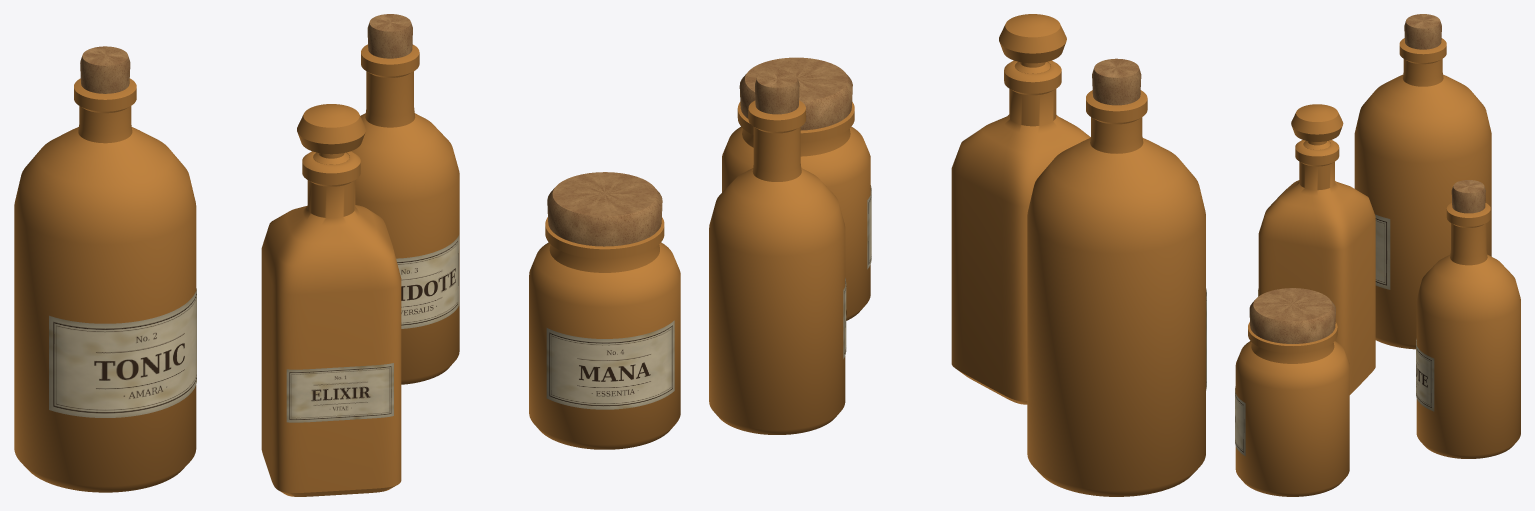
File: potions.glb
The picture shows the model from 3 angles, left to right: view 1: azimuth 30°, elevation 25°; view 2: azimuth 150°, elevation 25°; view 3: azimuth 270°, elevation 25°; orthographic projection. The views are drawn at different scales.
Parts seen in each view (by area): view 1: Bottle_2_Tall_Glass, Bottle_1_Square_Glass, Bottle_4_Jar_Glass, Bottle_3_Round_Glass, Bottle_2_Tall_Label, Bottle_4_Jar_Label, Bottle_4_Jar_Cork, Bottle_1_Square_Label, Bottle_3_Round_Label, Bottle_1_Square_Stopper, Bottle_2_Tall_Cork, Bottle_3_Round_Cork; view 2: Bottle_2_Tall_Glass, Bottle_3_Round_Glass, Bottle_1_Square_Glass, Bottle_4_Jar_Glass, Bottle_4_Jar_Cork, Bottle_1_Square_Stopper, Bottle_2_Tall_Cork, Bottle_3_Round_Cork; view 3: Bottle_2_Tall_Glass, Bottle_3_Round_Glass, Bottle_4_Jar_Glass, Bottle_1_Square_Glass, Bottle_4_Jar_Cork, Bottle_1_Square_Stopper, Bottle_2_Tall_Cork, Bottle_2_Tall_Label, Bottle_3_Round_Cork, Bottle_3_Round_Label, Bottle_4_Jar_Label.
Boxes of the visible parts, x1=… form: Bottle_2_Tall_Glass: x1=14, y1=78, x2=196, y2=492; Bottle_1_Square_Glass: x1=261, y1=151, x2=401, y2=496; Bottle_4_Jar_Glass: x1=529, y1=217, x2=680, y2=449; Bottle_3_Round_Glass: x1=351, y1=44, x2=459, y2=384; Bottle_2_Tall_Label: x1=49, y1=288, x2=196, y2=417; Bottle_4_Jar_Label: x1=546, y1=320, x2=674, y2=409; Bottle_4_Jar_Cork: x1=547, y1=172, x2=662, y2=246; Bottle_1_Square_Label: x1=286, y1=363, x2=393, y2=422; Bottle_3_Round_Label: x1=396, y1=235, x2=459, y2=328; Bottle_1_Square_Stopper: x1=297, y1=104, x2=365, y2=164; Bottle_2_Tall_Cork: x1=80, y1=46, x2=130, y2=93; Bottle_3_Round_Cork: x1=367, y1=14, x2=412, y2=58; Bottle_2_Tall_Glass: x1=1027, y1=90, x2=1205, y2=496; Bottle_3_Round_Glass: x1=709, y1=100, x2=845, y2=434; Bottle_1_Square_Glass: x1=951, y1=60, x2=1090, y2=404; Bottle_4_Jar_Glass: x1=722, y1=102, x2=870, y2=320; Bottle_4_Jar_Cork: x1=739, y1=57, x2=852, y2=130; Bottle_1_Square_Stopper: x1=999, y1=14, x2=1066, y2=73; Bottle_2_Tall_Cork: x1=1092, y1=58, x2=1141, y2=105; Bottle_3_Round_Cork: x1=755, y1=70, x2=799, y2=114; Bottle_2_Tall_Glass: x1=1354, y1=38, x2=1491, y2=349; Bottle_3_Round_Glass: x1=1416, y1=203, x2=1520, y2=458; Bottle_4_Jar_Glass: x1=1235, y1=322, x2=1349, y2=496; Bottle_1_Square_Glass: x1=1258, y1=140, x2=1375, y2=394; Bottle_4_Jar_Cork: x1=1249, y1=288, x2=1335, y2=343; Bottle_1_Square_Stopper: x1=1291, y1=104, x2=1343, y2=149; Bottle_2_Tall_Cork: x1=1404, y1=14, x2=1441, y2=49; Bottle_2_Tall_Label: x1=1375, y1=214, x2=1390, y2=289; Bottle_3_Round_Cork: x1=1451, y1=180, x2=1485, y2=213; Bottle_3_Round_Label: x1=1416, y1=339, x2=1434, y2=411; Bottle_4_Jar_Label: x1=1235, y1=386, x2=1245, y2=456.
Bounding box in the file's own units: 0.297 × 0.205 × 0.1753.
7 materials, 2 textured.
